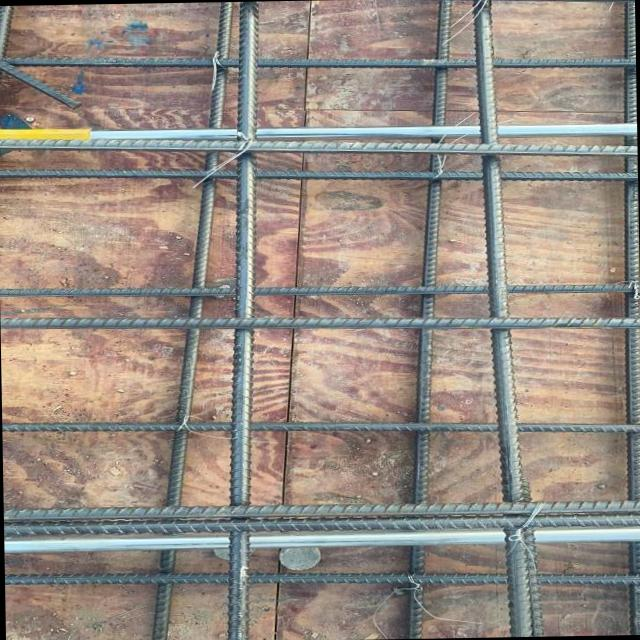ribbed bar: (142, 1, 245, 640), (392, 0, 468, 638), (474, 0, 543, 636), (215, 2, 268, 640), (0, 127, 637, 166), (1, 154, 638, 192), (0, 42, 634, 80), (1, 304, 640, 340), (3, 410, 640, 443), (5, 562, 640, 595), (4, 496, 640, 523), (4, 512, 640, 539), (1, 278, 640, 302), (616, 2, 640, 633)
